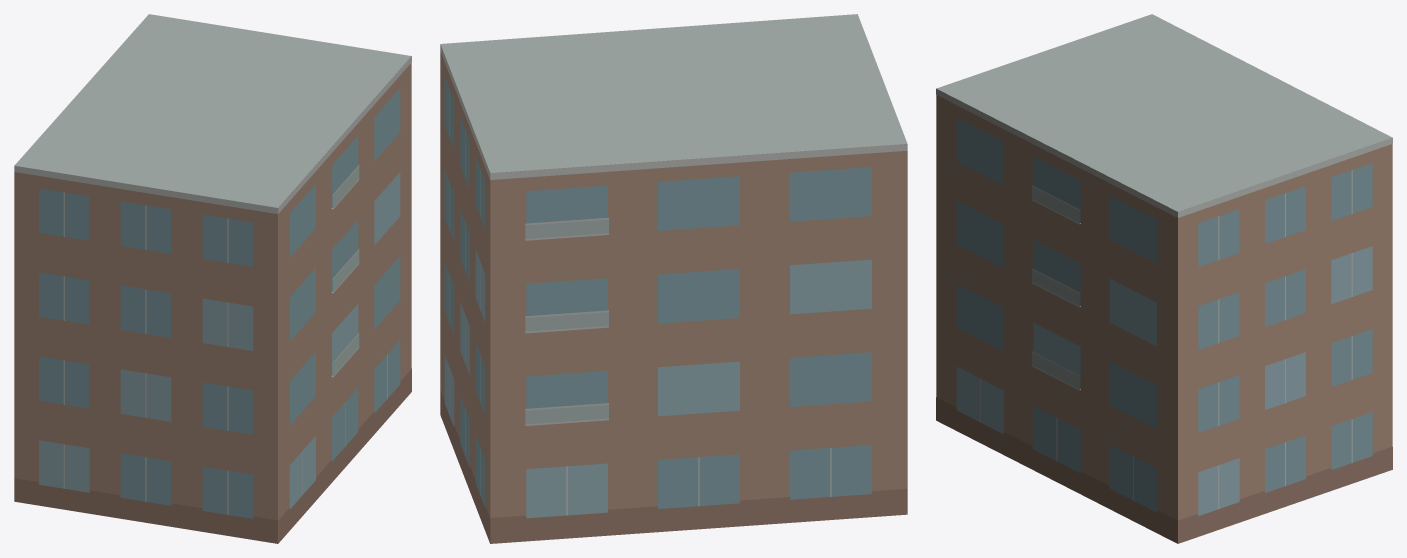
Rendered from survey-upis-32739242.glb.
3 renders of one model, left to right at view 1: azimuth 30°, elevation 25°; view 2: azimuth 150°, elevation 25°; view 3: azimuth 270°, elevation 25°, orthographic. The views are drawn at different scales.
Parts seen in each view (by area): view 1: survey-upis-32739242.tmp; view 2: survey-upis-32739242.tmp; view 3: survey-upis-32739242.tmp.
Boxes of the visible parts, bbox=[...] form: survey-upis-32739242.tmp: bbox=[14, 14, 411, 543]; survey-upis-32739242.tmp: bbox=[440, 14, 907, 543]; survey-upis-32739242.tmp: bbox=[936, 14, 1392, 543].
Size of the model in its own units: 16.89 by 13.2 by 16.46.
